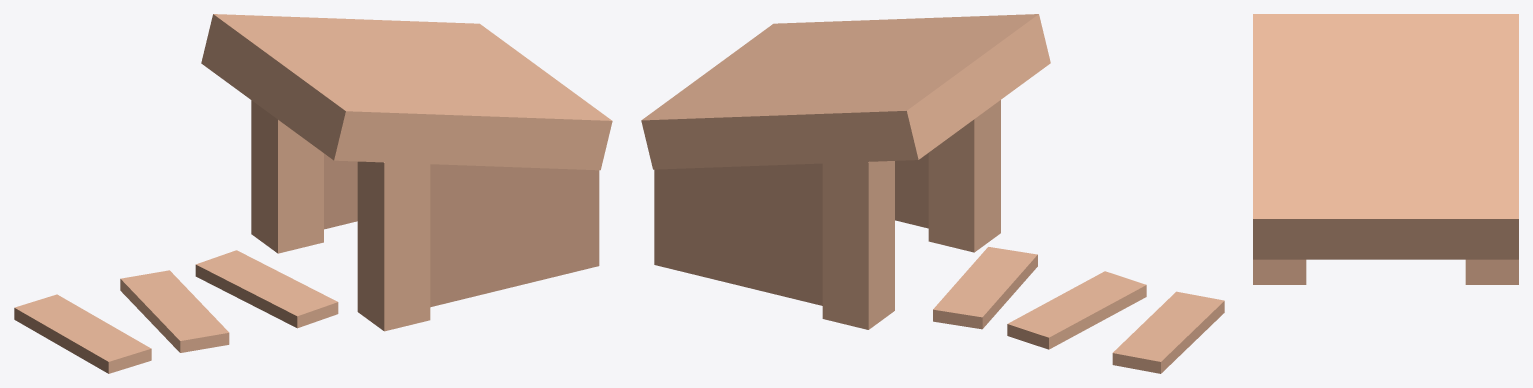
File: Minelvl2.fbx
3 views of the same model, side by side, from view 1: azimuth 30°, elevation 25°; view 2: azimuth 150°, elevation 25°; view 3: azimuth 270°, elevation 25° (orthographic).
Visible parts, largest first — view 1: Mine, Path; view 2: Mine, Path; view 3: Mine.
Boxes of the visible parts, x1,y1,x2,y2 form: Mine: (201,14,612,331); Path: (14,250,338,373); Mine: (641,14,1050,329); Path: (933,247,1224,373); Mine: (1253,14,1518,284).
Bounding box in the file's own units: 53.65 × 23.84 × 25.
